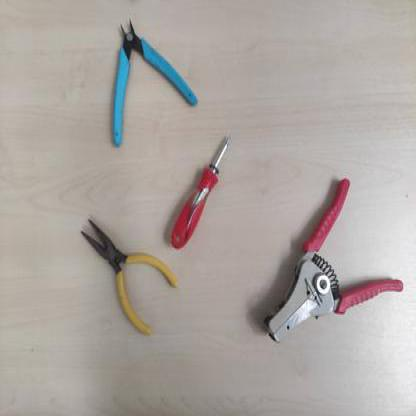Screwdriver: (164, 132, 236, 250)
